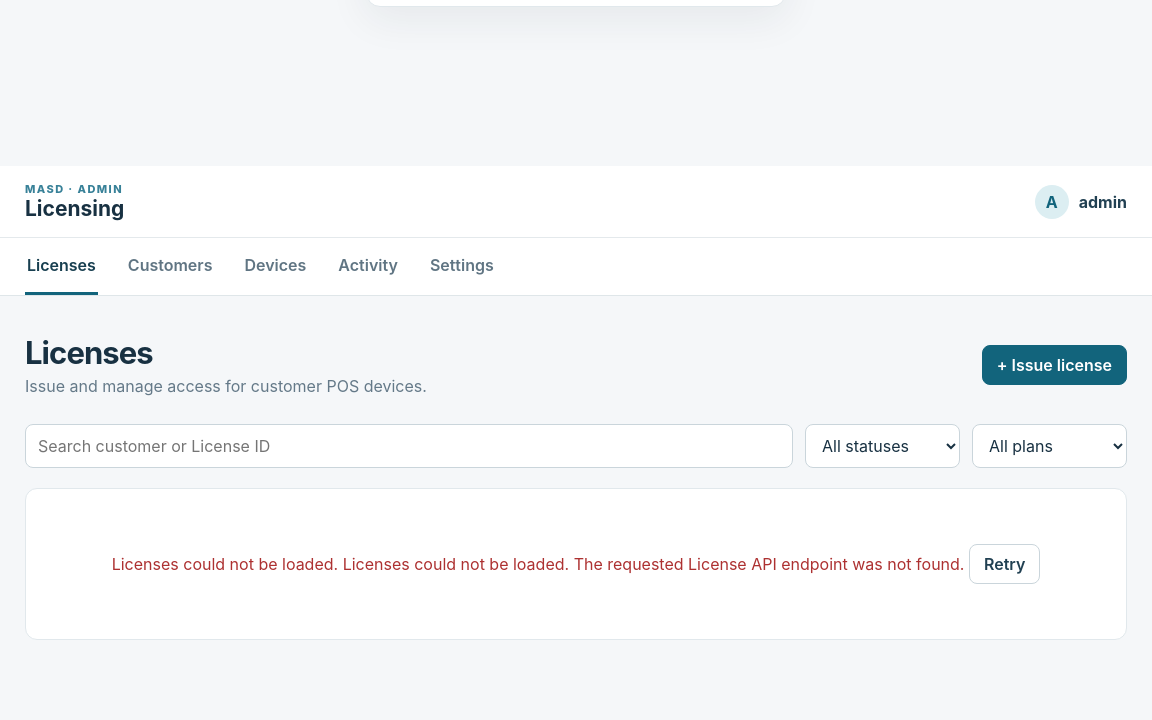
Scenario: failed license load shows error and Retry, not empty; customer failure stays separate
(page scrolled)
Check: the heading "Licenses" is shown, box x1=25 y1=334 x2=153 y2=371
Check: the text "Loading licenses..." is not shown
What coordinates should you click on to do the following:
click the button "Retry"
I would click on:
 (1005, 564)
Its box is x1=969 y1=544 x2=1040 y2=584.
(page scrolled)
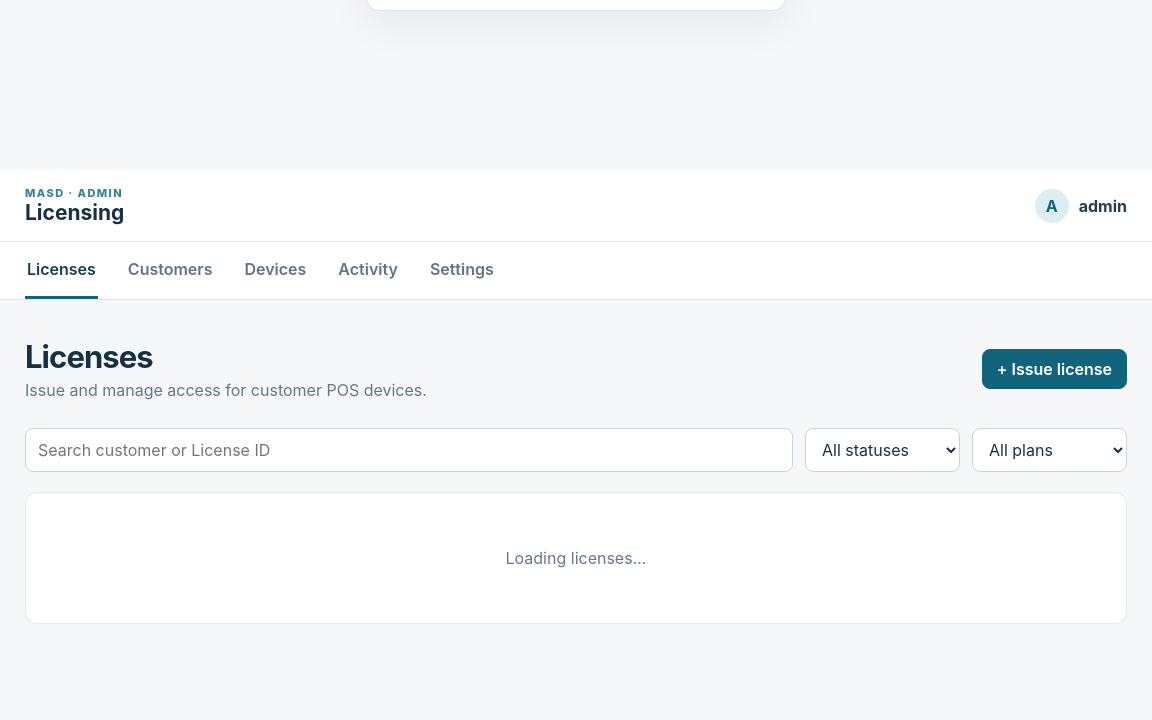
What coordinates should you click on to do the following:
click the button "Customers"
I would click on:
 (170, 270)
Its box is x1=126 y1=242 x2=214 y2=299.
(page scrolled)
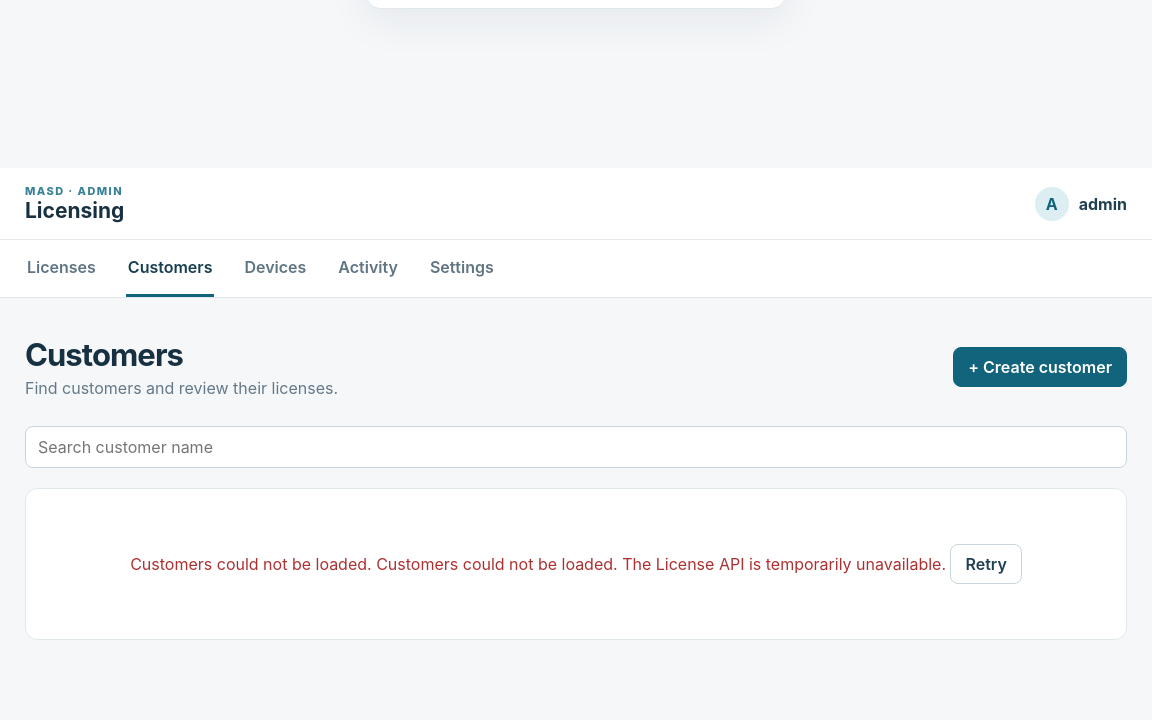
Check: the text "Customers could not be loaded" is shown, box x1=130 y1=554 x2=376 y2=574
